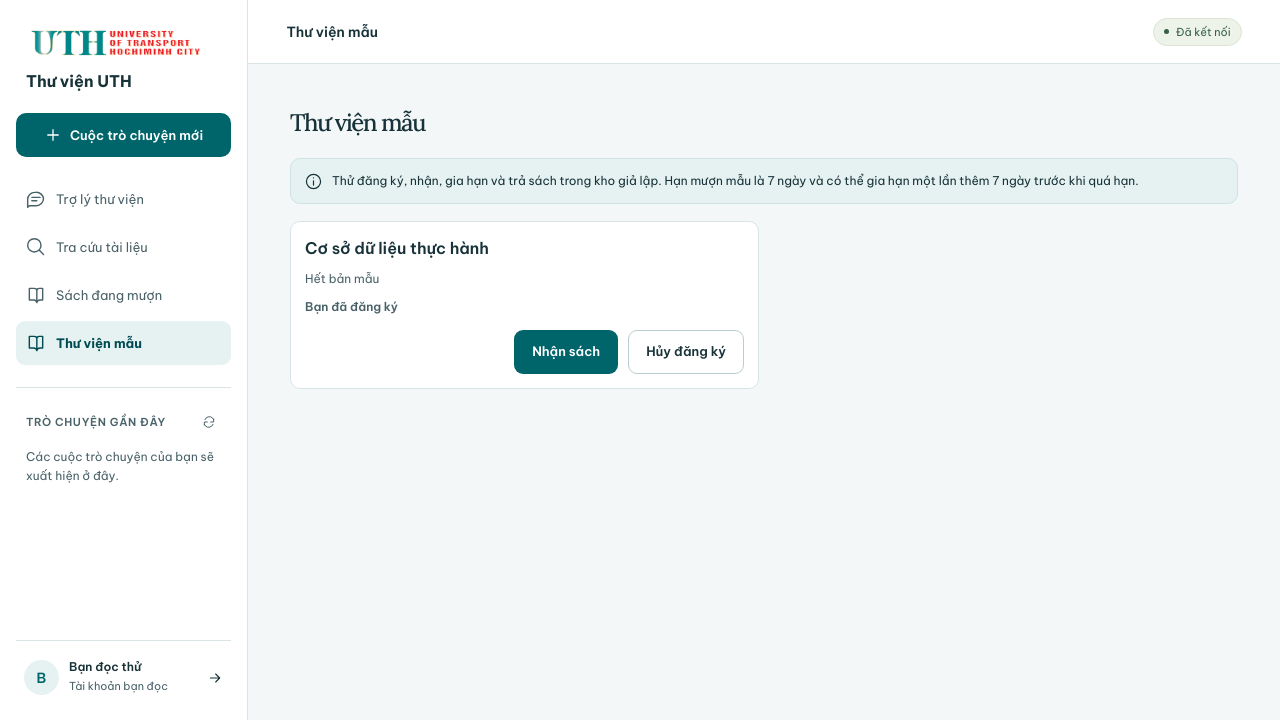
Test: lets a reader receive, renew and return a sample loan with confirmation
Click the button with aria-label "nhận sách cơ sở dữ liệu": (566, 352) [514, 330, 618, 374]
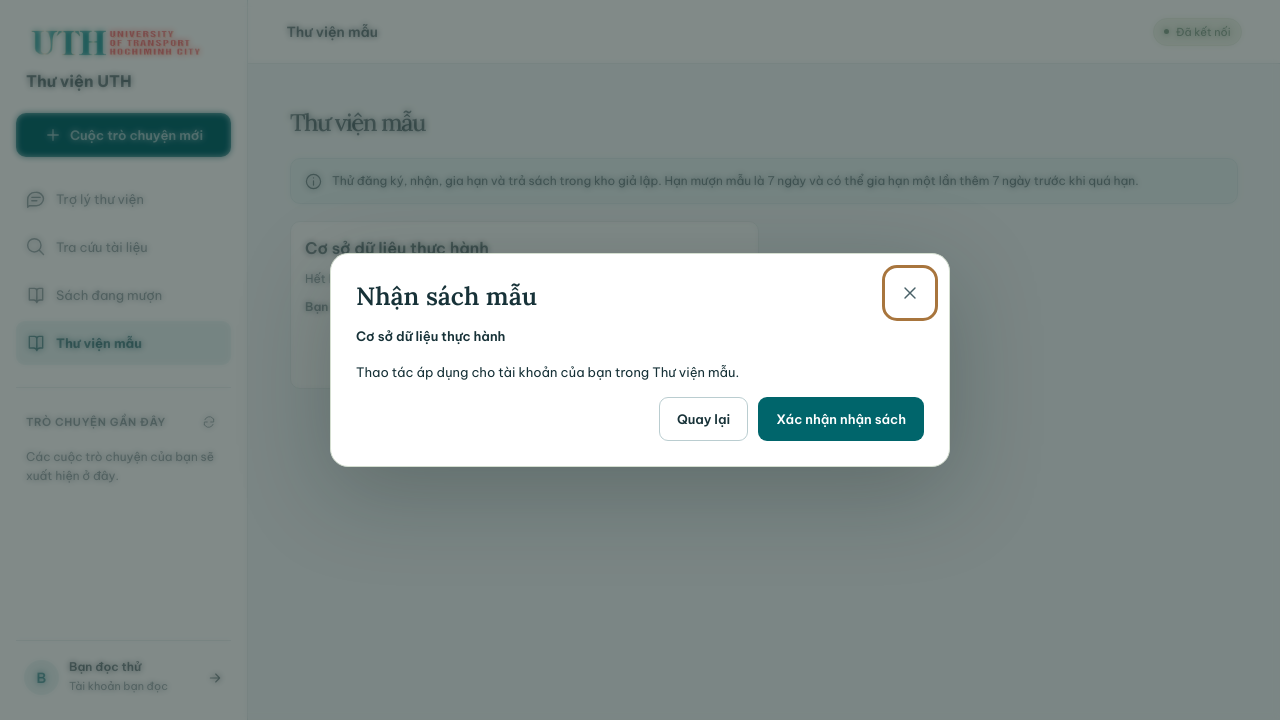
Click the button "Xác nhận nhận sách": (841, 419) [758, 397, 924, 441]
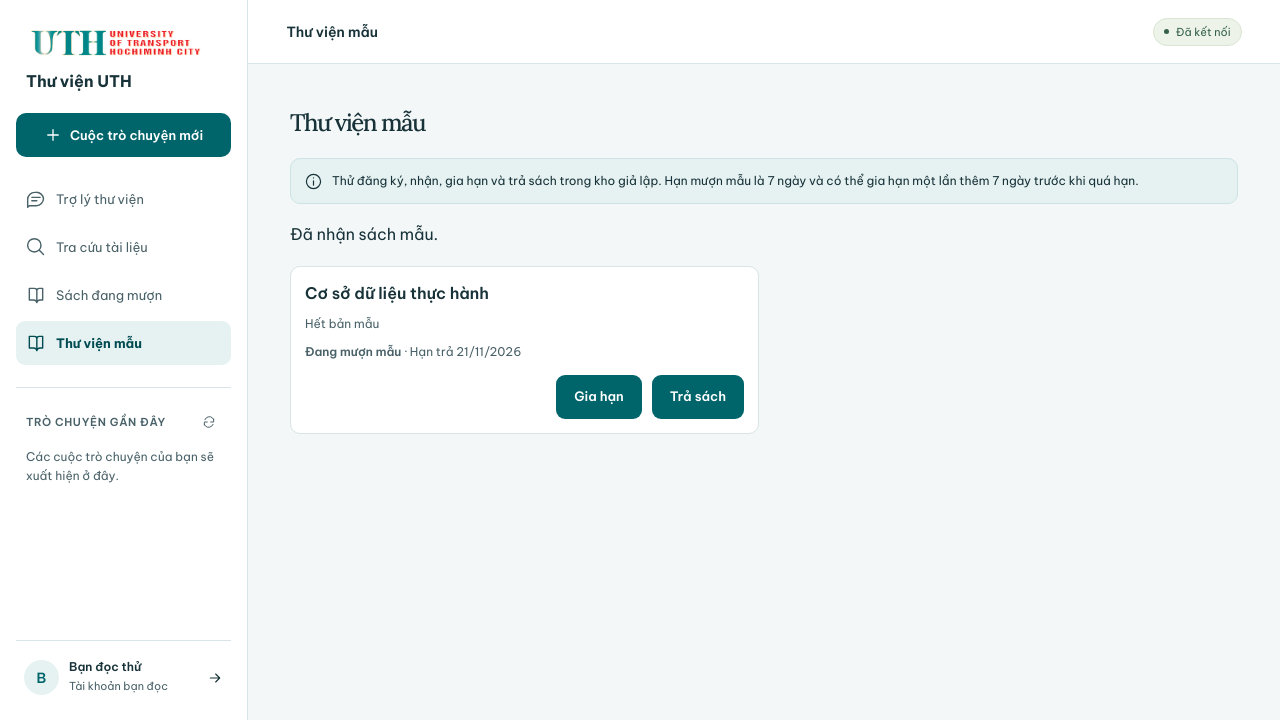
Expected: the text "Đang mượn mẫu · Hạn trả 21/11/2026" is shown, [305, 344, 521, 359]
Click the button with aria-label "gia hạn cơ sở dữ liệu": (599, 397) [556, 375, 642, 419]
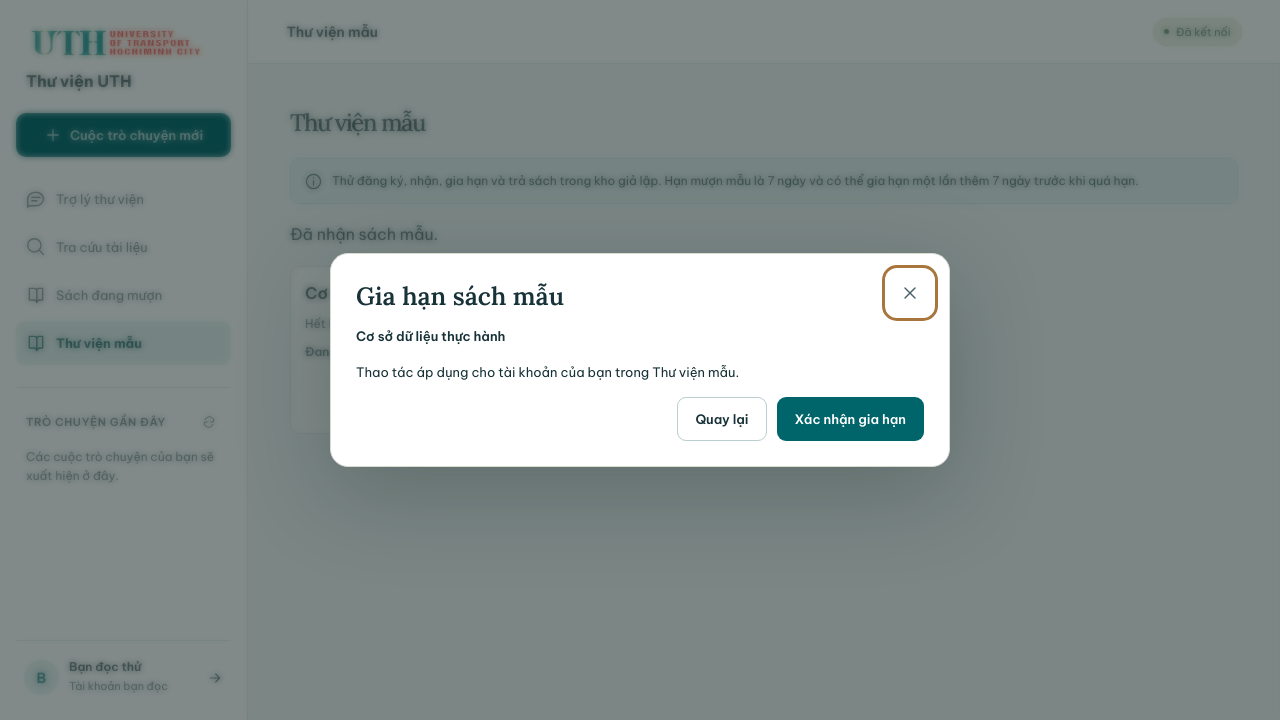
Click the button "Xác nhận gia hạn": (850, 419) [777, 397, 924, 441]
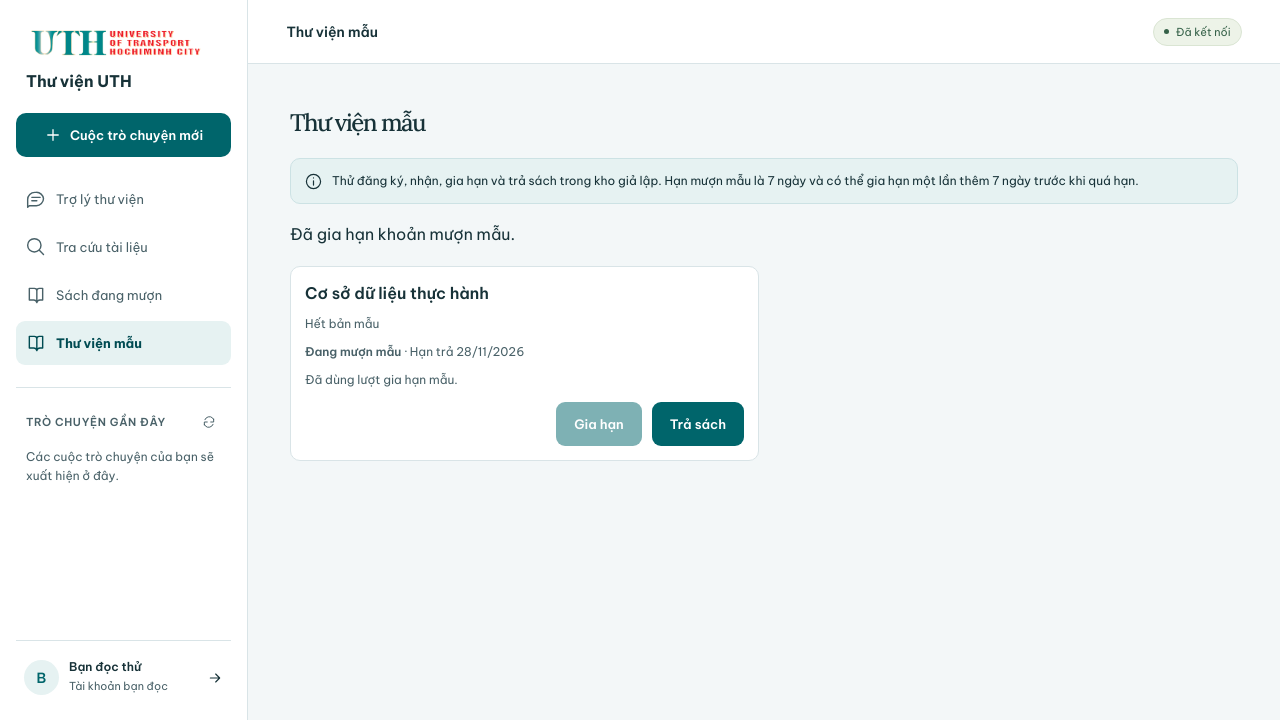
Expected: the text "Đang mượn mẫu · Hạn trả 28/11/2026" is shown, [305, 344, 524, 359]
Expected: the button with aria-label "gia hạn cơ sở dữ liệu" is disabled, [556, 402, 642, 446]
Click the button with aria-label "trả sách cơ sở dữ liệu": (698, 424) [652, 402, 744, 446]
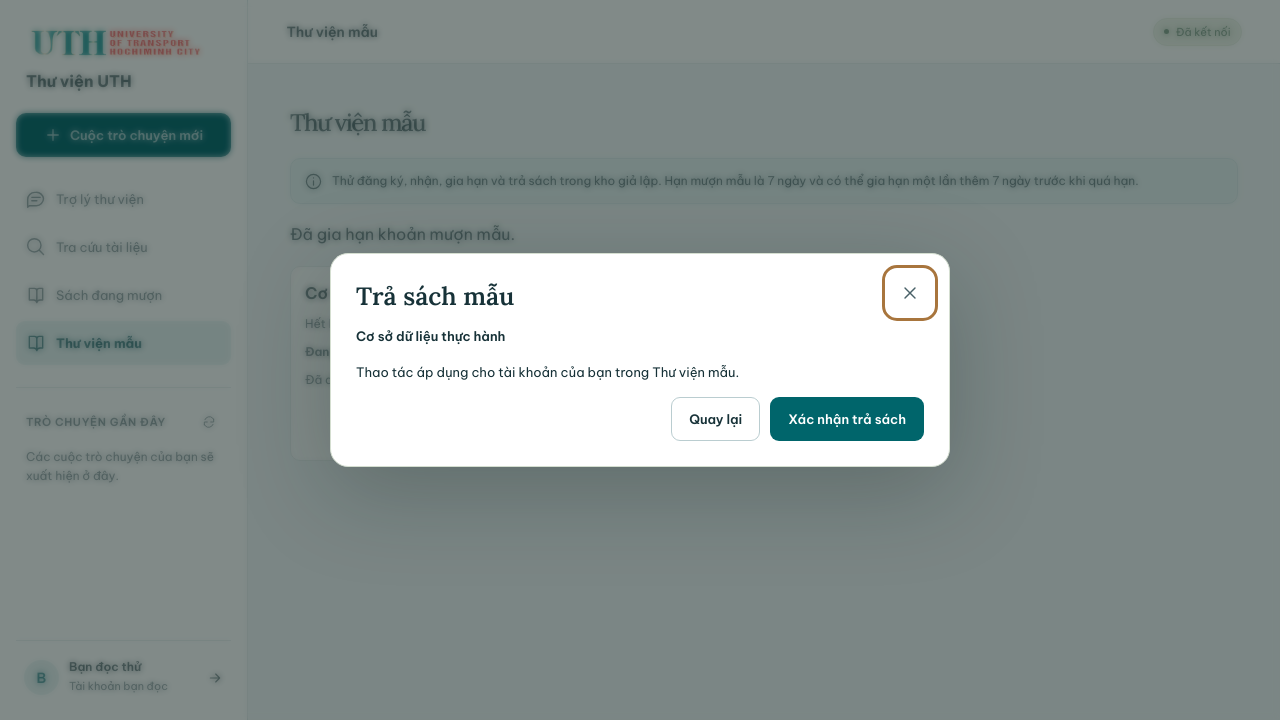
Click the button "Xác nhận trả sách": (847, 419) [770, 397, 924, 441]
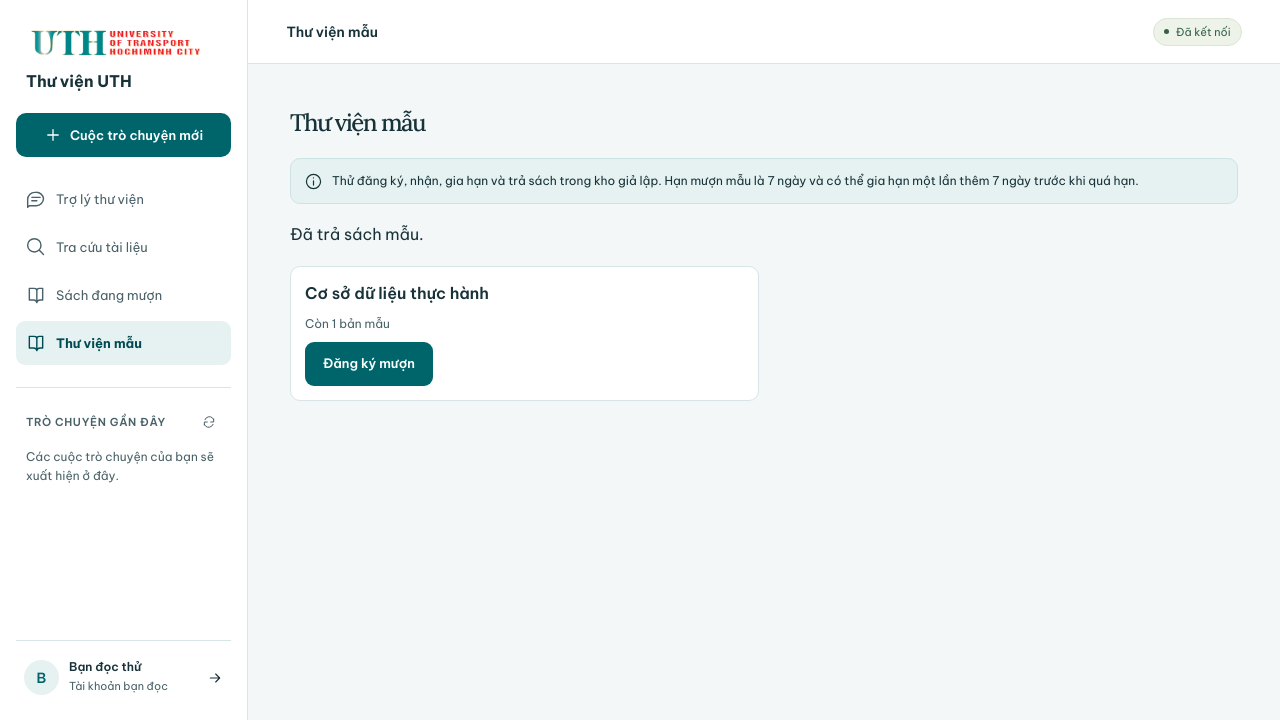
Expected: the button with aria-label "đăng ký mượn cơ sở dữ liệu" is shown, [305, 342, 433, 386]
